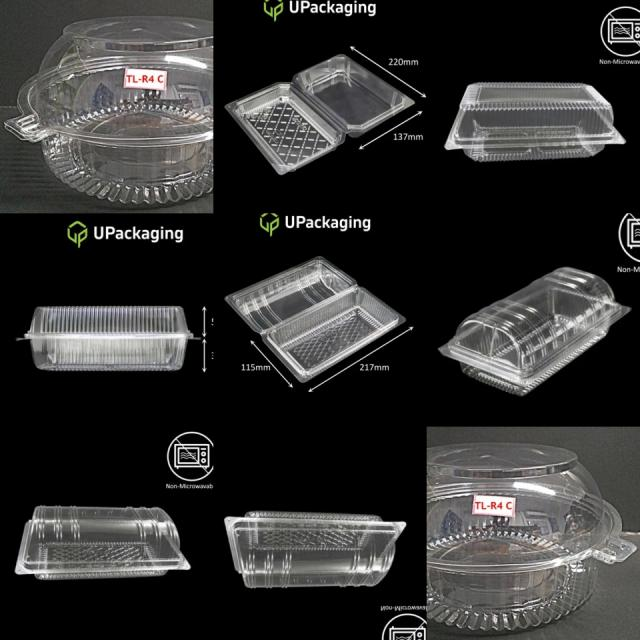Single-Use-Plastic: (428, 442, 635, 631), (5, 16, 212, 204), (439, 268, 630, 396), (226, 256, 405, 382), (226, 55, 414, 174), (445, 82, 625, 161), (225, 511, 406, 588), (15, 508, 190, 579), (25, 306, 192, 370)
